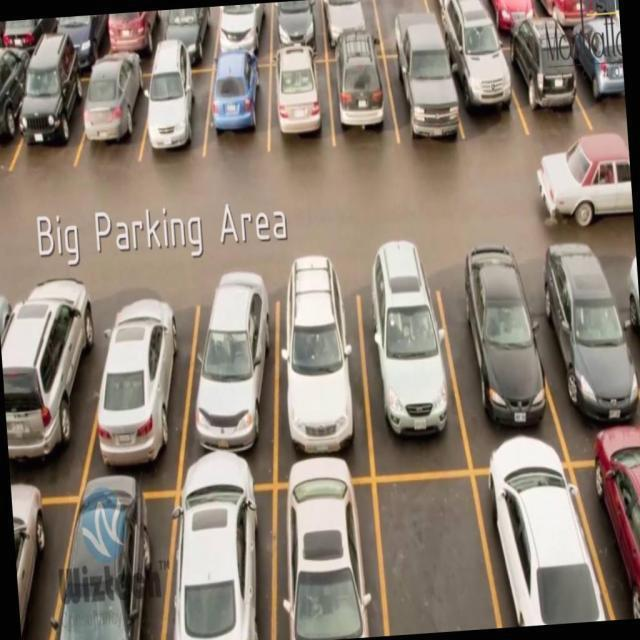space-empty: (377, 476, 486, 636), (375, 0, 435, 52)
space-occupied: (350, 260, 468, 468), (0, 265, 108, 490), (521, 265, 640, 455), (274, 260, 374, 475), (179, 272, 279, 481), (161, 479, 287, 640), (55, 483, 184, 640), (272, 475, 387, 640), (450, 271, 551, 457), (480, 460, 591, 628), (94, 289, 186, 484), (9, 59, 92, 183), (443, 18, 521, 147), (324, 41, 398, 174), (500, 16, 576, 145), (385, 38, 464, 158), (585, 455, 640, 621), (204, 53, 282, 166), (263, 51, 338, 167), (87, 52, 150, 185), (563, 17, 628, 141), (149, 58, 211, 166), (0, 48, 32, 193), (216, 2, 281, 72), (164, 7, 226, 72), (268, 0, 328, 66), (320, 0, 380, 59), (622, 272, 640, 443), (485, 0, 542, 51)
